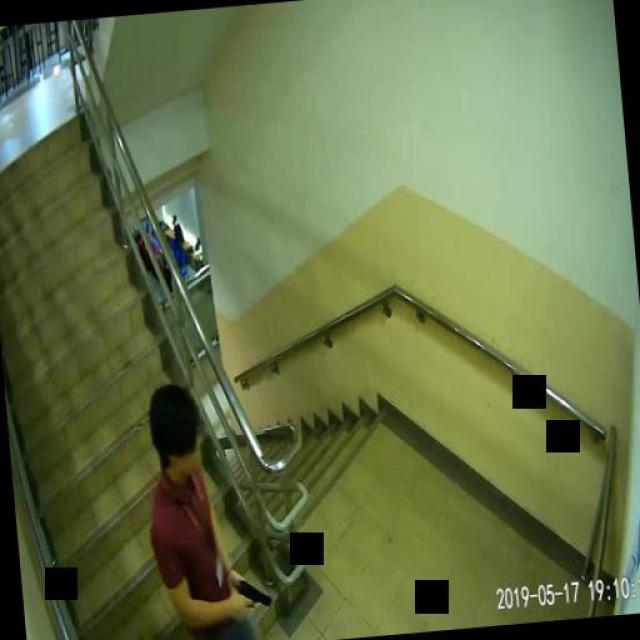gun: (234, 578, 271, 620)
